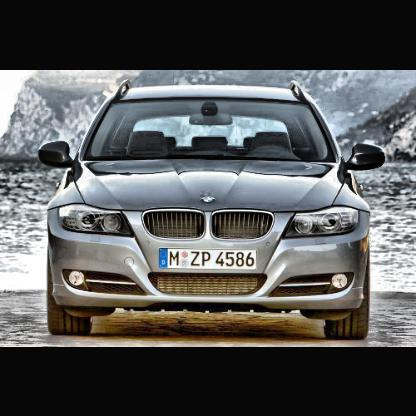BMW 3 Series Wagon 2012: (40, 81, 386, 342)
